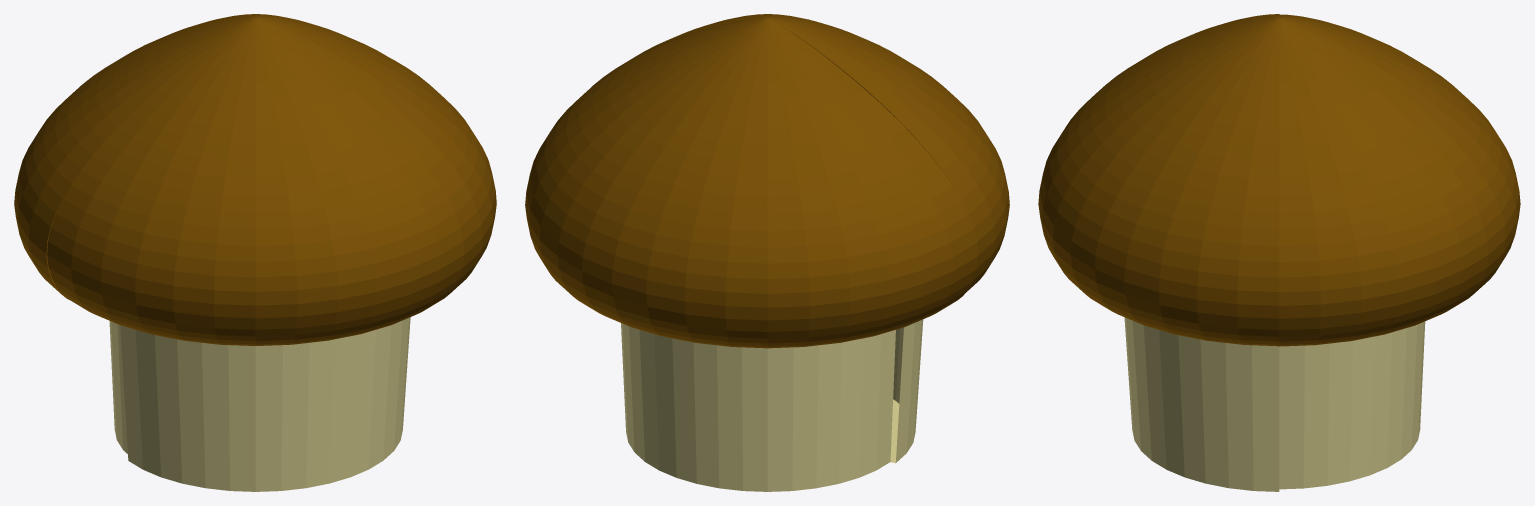
File: muffin.fbx
3 renders of one model, left to right at view 1: azimuth 30°, elevation 25°; view 2: azimuth 150°, elevation 25°; view 3: azimuth 270°, elevation 25°, orthographic.
Visible parts, largest first — view 1: BezierCircle; view 2: BezierCircle; view 3: BezierCircle.
Boxes of the visible parts, x1,y1,x2,y2 form: BezierCircle: [14, 14, 496, 491]; BezierCircle: [525, 14, 1009, 491]; BezierCircle: [1038, 14, 1520, 491].
Bounding box in the file's own units: 206 × 194 × 206.
